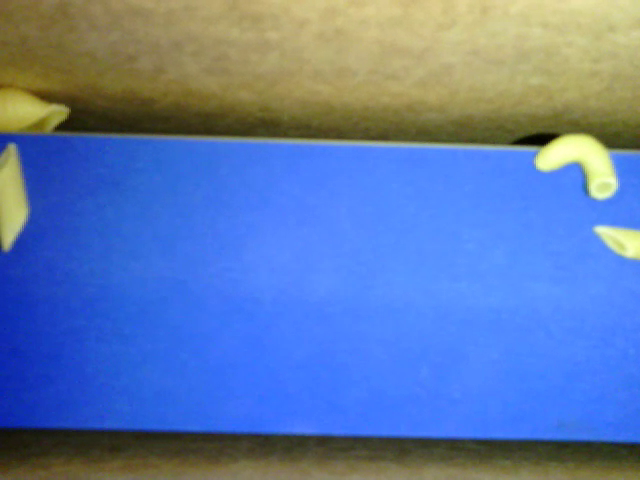elbow: (534, 131, 616, 201)
penne: (1, 143, 39, 254), (593, 219, 639, 260)
shell: (1, 82, 74, 136)
